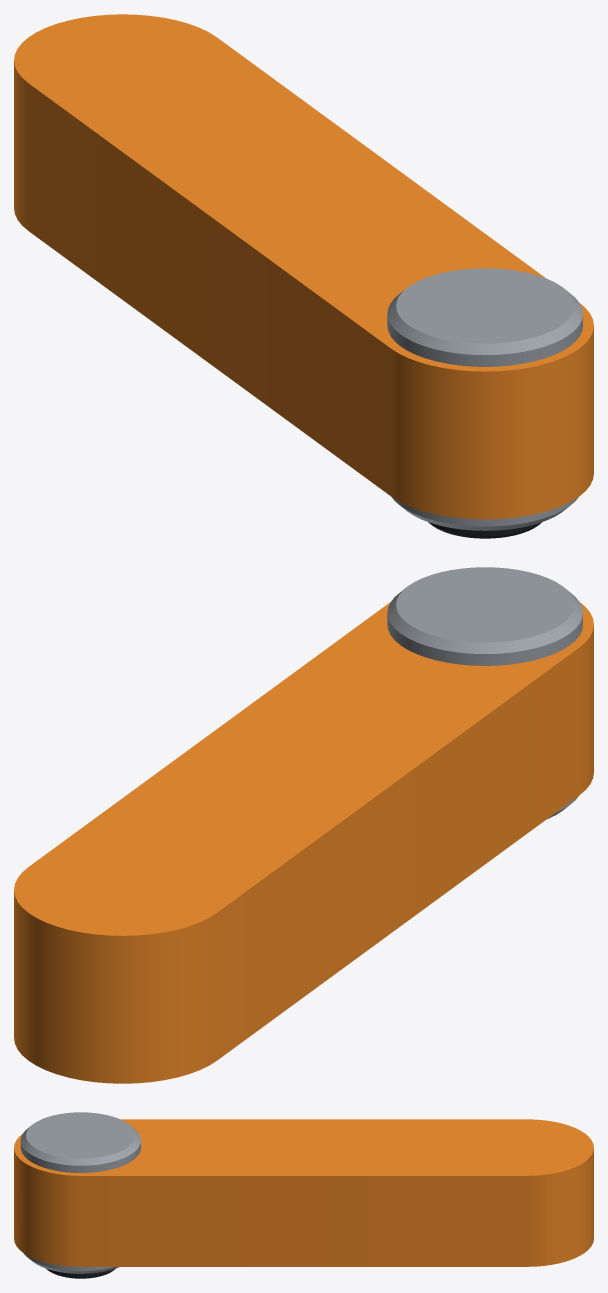
3 views of the same model, one above another, from view 1: azimuth 30°, elevation 25°; view 2: azimuth 150°, elevation 25°; view 3: azimuth 270°, elevation 25° (orthographic). The views are drawn at different scales.
Visible parts, largest first — view 1: link2; view 2: link2; view 3: link2.
Boxes of the visible parts, <box> form: link2: <box>14,14,593,538</box>; link2: <box>14,567,593,1083</box>; link2: <box>14,1112,593,1278</box>.
Bounding box in the file's own units: 0.075 × 0.0787 × 0.325.
